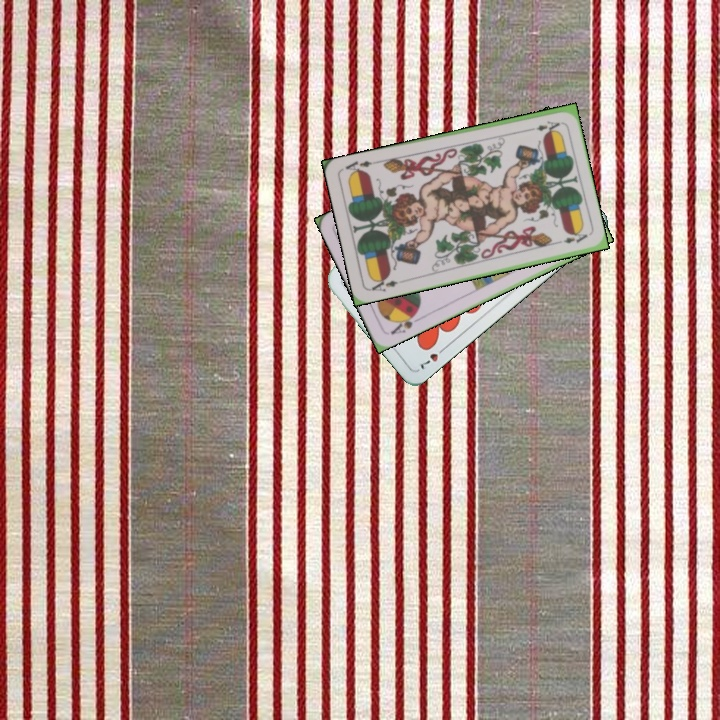EA: (366, 273, 400, 294), (523, 117, 562, 134)
H7: (415, 342, 449, 372)
SA: (386, 308, 423, 337)
